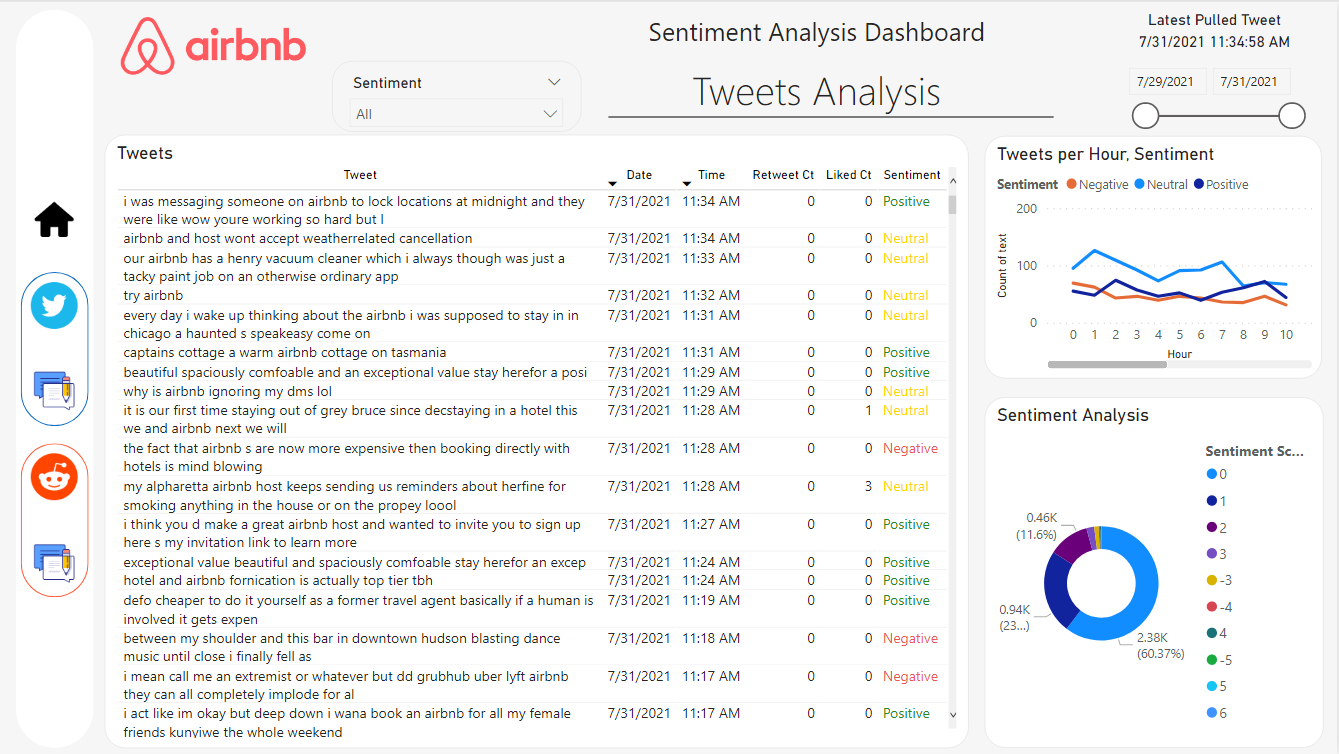

This screenshot's page, from the dashboard's own definition file:
{"tool":"powerbi","page":{"name":"Tweets Analysis","canvas":[1280,720],"ordinal":2},"visuals":[{"type":"shape","box":[17.9,6.9,74.2,705.9],"z":0},{"type":"image","box":[27.5,258,54.9,64.5],"z":0,"group":"g1"},{"type":"image","box":[114,6.9,186.8,68.7],"z":1000},{"type":"image","box":[27.5,339.9,54.9,64.5],"z":1000,"group":"g1"},{"type":"textbox","box":[354.3,6.9,857,46.7],"z":2000},{"type":"image","box":[27.5,421.9,54.9,64.5],"z":2000,"group":"g1"},{"type":"textbox","box":[320,53.6,925.7,72.8],"z":3000},{"type":"image","box":[27.5,503.9,54.9,64.5],"z":3000,"group":"g1"},{"type":"image","box":[27.5,176,54.9,64.5],"z":4000,"group":"g1"},{"type":"shape","box":[583.7,104.4,425.8,12.4],"z":4000},{"type":"shape","box":[22.7,257.9,64.5,146.9],"z":5000,"group":"g1"},{"type":"tableEx","title":"Tweets","fields":{"Values":["AirbnbTweetsSentiment.text","AirbnbTweetsSentiment.Date","AirbnbTweetsSentiment.Time","Sum(AirbnbTweetsSentiment.retweetCount)","Sum(AirbnbTweetsSentiment.favoriteCount)","AirbnbTweetsSentiment.Sentiment"]},"box":[103,126.4,825.4,586.4],"z":5000},{"type":"lineChart","title":"Tweets per Hour, Sentiment","fields":{"Category":["AirbnbTweetsSentiment.Hour"],"Y":["CountNonNull(AirbnbTweetsSentiment.text)"],"Series":["AirbnbTweetsSentiment.Sentiment"]},"box":[943.5,127.7,322.7,232.1],"z":6000},{"type":"shape","box":[22.7,421.5,64.5,146.9],"z":6000,"group":"g1"},{"type":"donutChart","title":"Sentiment Analysis","fields":{"Category":["AirbnbTweetsSentiment.Sentiment Score"],"Y":["CountNonNull(AirbnbTweetsSentiment.Sentiment)"]},"box":[943.5,377.7,324.1,335.1],"z":7000},{"type":"card","title":"Latest Pulled Tweet","fields":{"Values":["Max(AirbnbTweetsSentiment.created)"]},"box":[1057.5,8.2,210.1,45.3],"z":11000},{"type":"slicer","fields":{"Values":["AirbnbTweetsSentiment.Sentiment"]},"box":[320.3,55.7,238.2,68.2],"z":12000},{"type":"slicer","fields":{"Values":["AirbnbTweetsSentiment.created"]},"box":[1068.3,52.9,189.4,78],"z":13000},{"type":"group","id":"g1","title":"Group 2","box":[22.7,176,64.5,392.4],"z":14000}]}

Visuals, with their boxes on the page's 1280x720 design canvas (x1, y1, x2, y2). These are canvas units, not pixel positions in the 1339x754 screenshot, which may show the page scaled, cropped or inside an application window:
shape: x1=18, y1=7, x2=92, y2=713
image: x1=28, y1=258, x2=82, y2=322
image: x1=114, y1=7, x2=301, y2=76
image: x1=28, y1=340, x2=82, y2=404
textbox: x1=354, y1=7, x2=1211, y2=54
image: x1=28, y1=422, x2=82, y2=486
textbox: x1=320, y1=54, x2=1246, y2=126
image: x1=28, y1=504, x2=82, y2=568
image: x1=28, y1=176, x2=82, y2=240
shape: x1=584, y1=104, x2=1010, y2=117
shape: x1=23, y1=258, x2=87, y2=405
"Tweets" tableEx: x1=103, y1=126, x2=928, y2=713
"Tweets per Hour, Sentiment" lineChart: x1=944, y1=128, x2=1266, y2=360
shape: x1=23, y1=422, x2=87, y2=568
"Sentiment Analysis" donutChart: x1=944, y1=378, x2=1268, y2=713
"Latest Pulled Tweet" card: x1=1058, y1=8, x2=1268, y2=54
slicer - AirbnbTweetsSentiment.Sentiment: x1=320, y1=56, x2=558, y2=124
slicer - AirbnbTweetsSentiment.created: x1=1068, y1=53, x2=1258, y2=131
"Group 2" group: x1=23, y1=176, x2=87, y2=568
